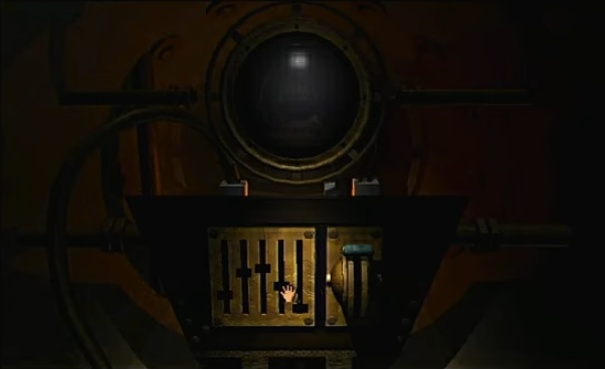Pointer: (277, 279, 300, 304)
